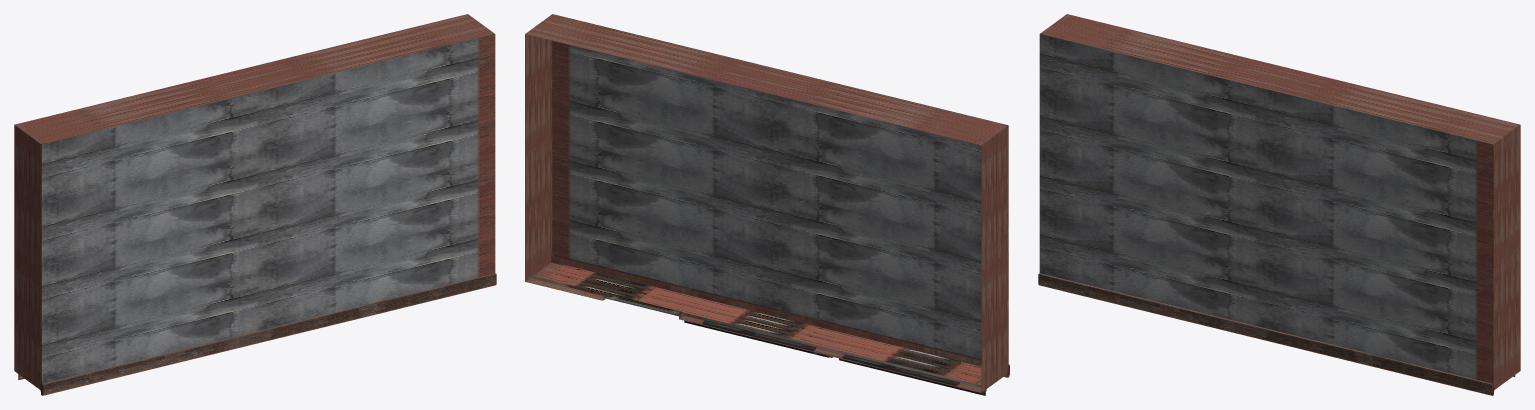
Rendered from row_five_a_hq_lod.glb.
3 views of the same model, side by side, from view 1: azimuth 30°, elevation 25°; view 2: azimuth 150°, elevation 25°; view 3: azimuth 330°, elevation 25° (orthographic).
Visible parts, largest first — view 1: Brownstone_FlatFacade_4_Brownstone_Facade_Flr_2_0; view 2: Brownstone_FlatFacade_4_Brownstone_Facade_Flr_2_0, Brownstone_FlatFacade_4_Brownstone_Firstfloor_1_0; view 3: Brownstone_FlatFacade_4_Brownstone_Facade_Flr_2_0.
Part boxes in pixels (box(x1,y1,x2,y2)): Brownstone_FlatFacade_4_Brownstone_Facade_Flr_2_0: box(14, 14, 496, 395); Brownstone_FlatFacade_4_Brownstone_Facade_Flr_2_0: box(525, 14, 1009, 392); Brownstone_FlatFacade_4_Brownstone_Firstfloor_1_0: box(530, 275, 986, 395); Brownstone_FlatFacade_4_Brownstone_Facade_Flr_2_0: box(1038, 14, 1520, 395).
Size of the model in its own units: 32 by 17 by 3.5.
Materials: 2 (2 with a texture image).
